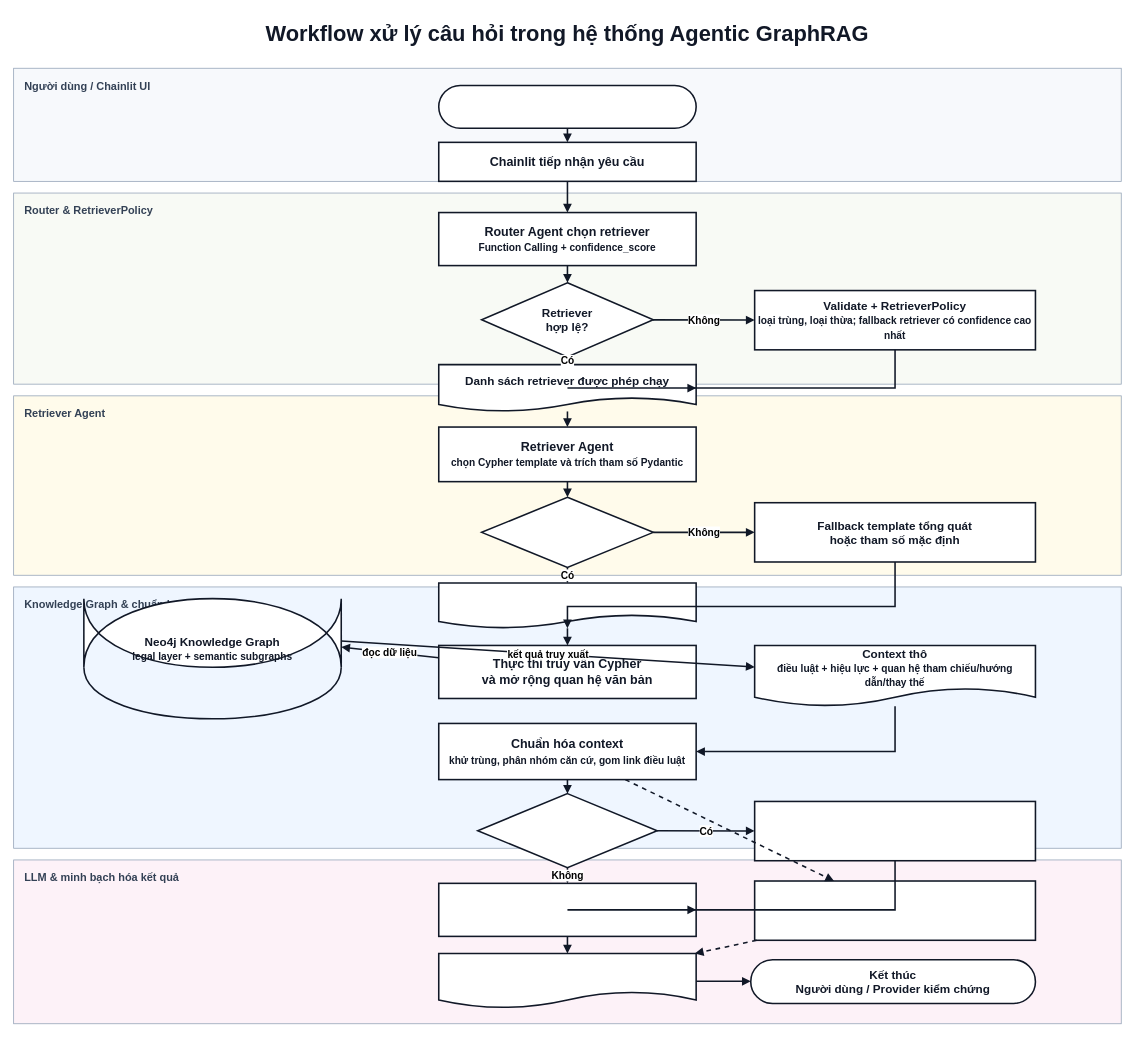
The diagram is 1135 pixels wide and 1037 high, and some of its shapes have lost their labels. The centre of each missing label's shape, as x and y in pixels:
Bắt đầu Câu hỏi + lịch sử hội thoại: pixel 567 106
Chainlit hiển thị câu trả lời + trích dẫn + cảnh báo + agent trace + URL đồ thị: pixel 567 980
Cypher query + tham số truy vấn: pixel 567 605
Có hiệu lực / mâu thuẫn cần cảnh báo?: pixel 567 830
FastAPI + vis-network tạo URL đồ thị đã truy xuất: pixel 894 910
Gắn flags cảnh báo hết hiệu lực, sắp có hiệu lực, thay thế, mâu thuẫn: pixel 894 830
LLM sinh câu trả lời chỉ sử dụng context đã chuẩn hóa: pixel 567 909
Template / tham số hợp lệ?: pixel 567 532
